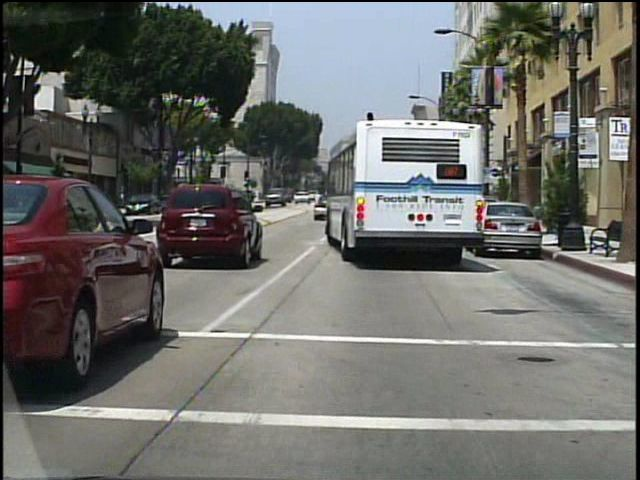person: (481, 181, 494, 225)
